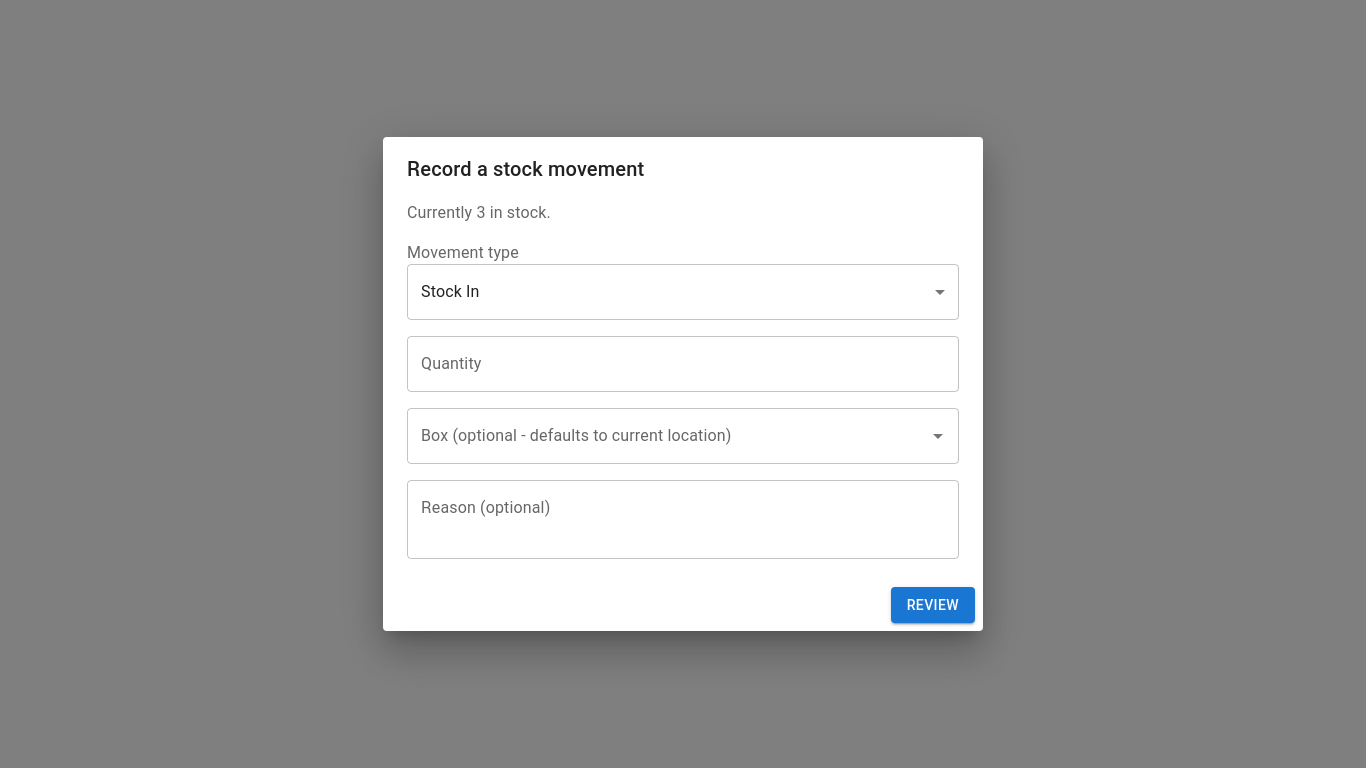
it: StockMovementDialog › Stock Out: rejects a quantity greater than what's in stock
Click the dropdown labelled "Stock In" at {"x": 450, "y": 292}, box [421, 282, 480, 301]
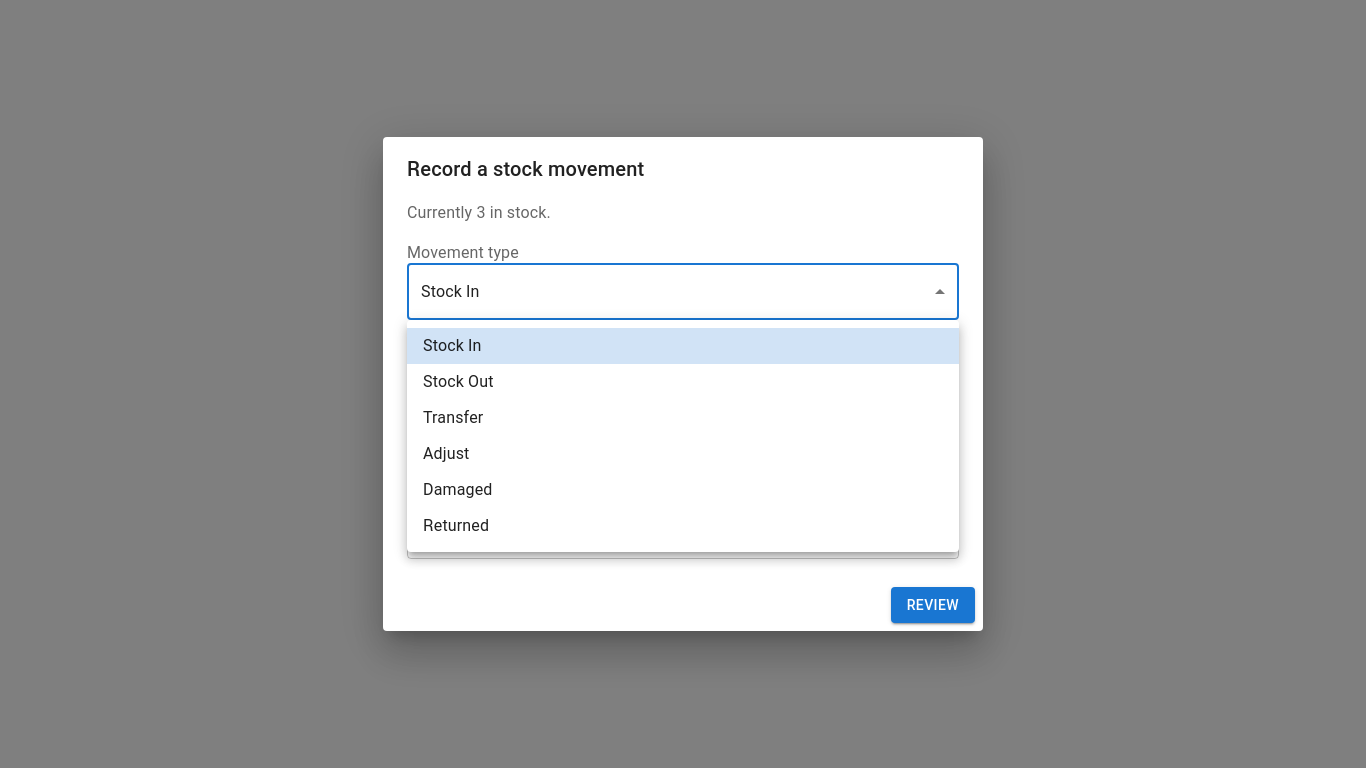
Click the option "Stock Out" at {"x": 458, "y": 382}, box [423, 372, 494, 391]
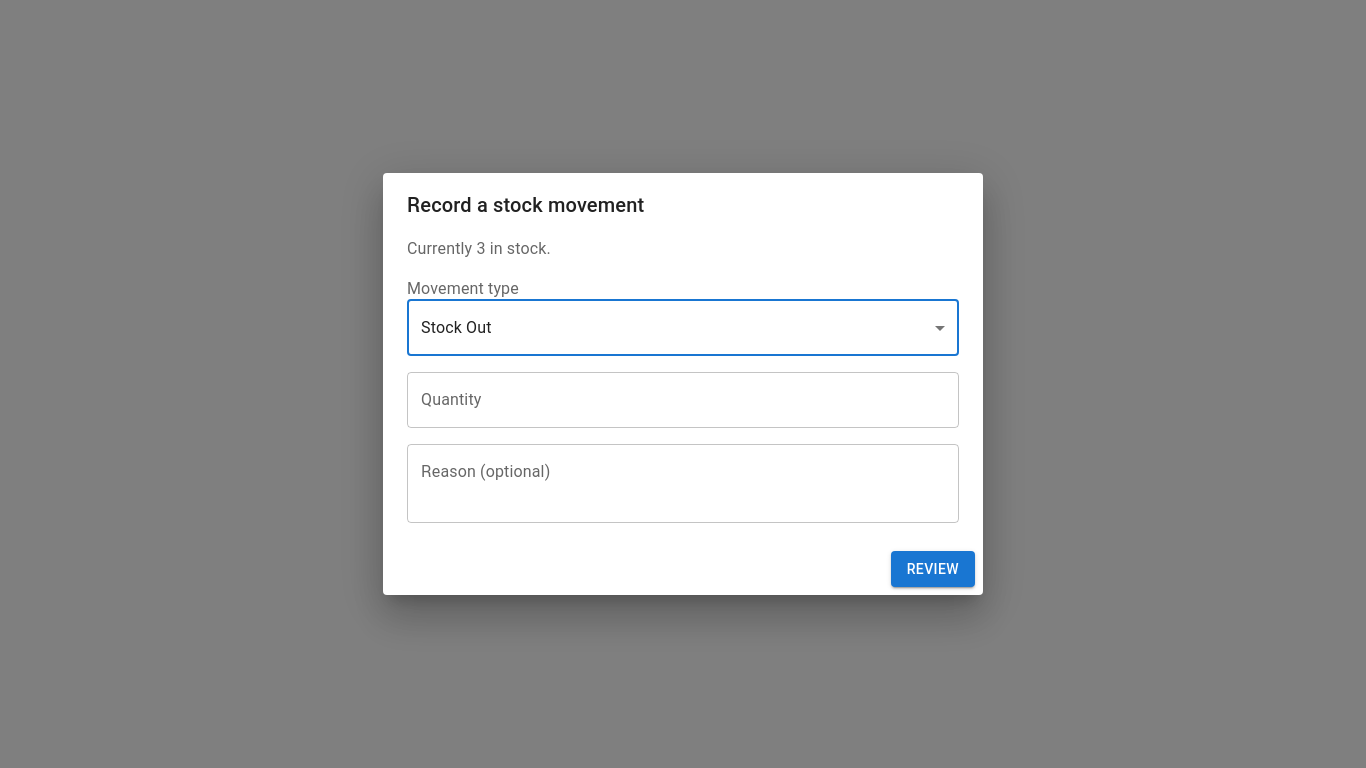
Type "9" into the number field at {"x": 683, "y": 400}, box [407, 372, 959, 428]
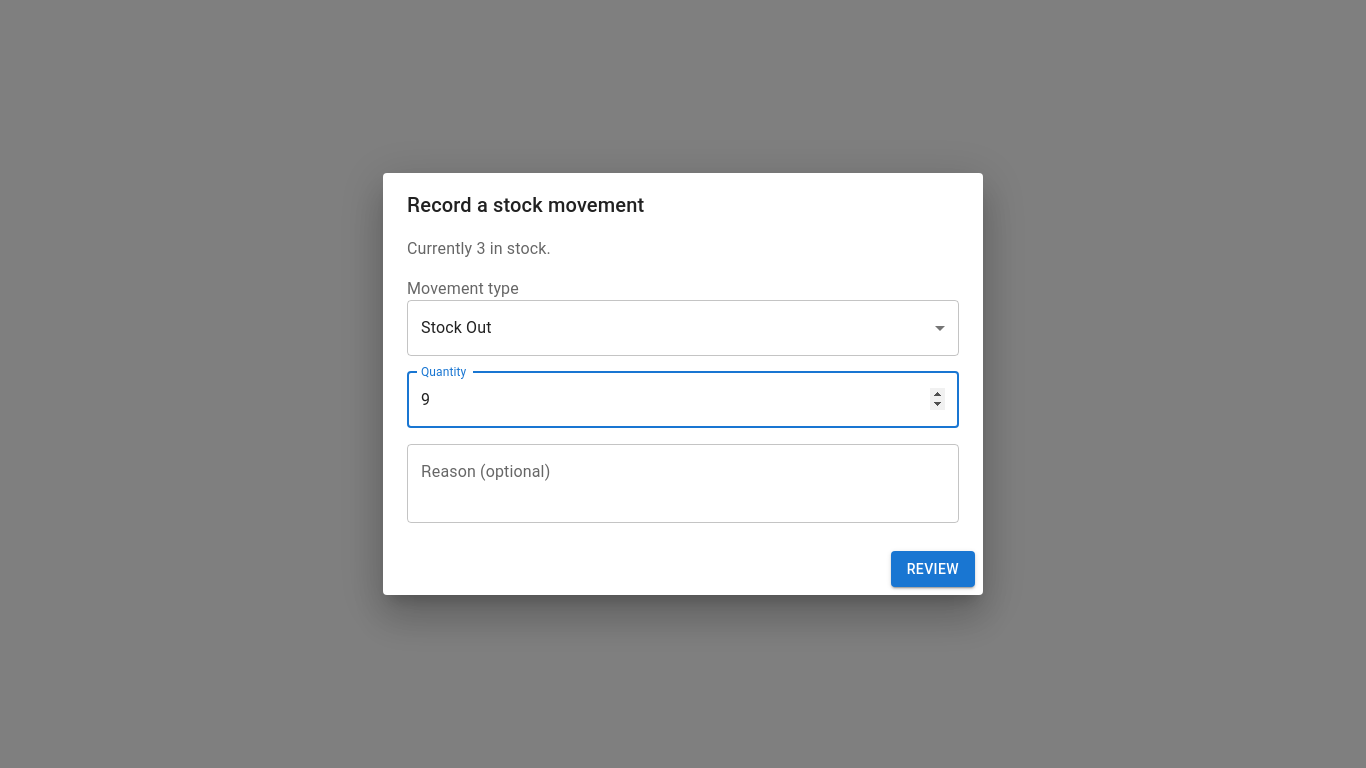
Click the button "Review" at {"x": 933, "y": 569}, box [891, 551, 975, 587]
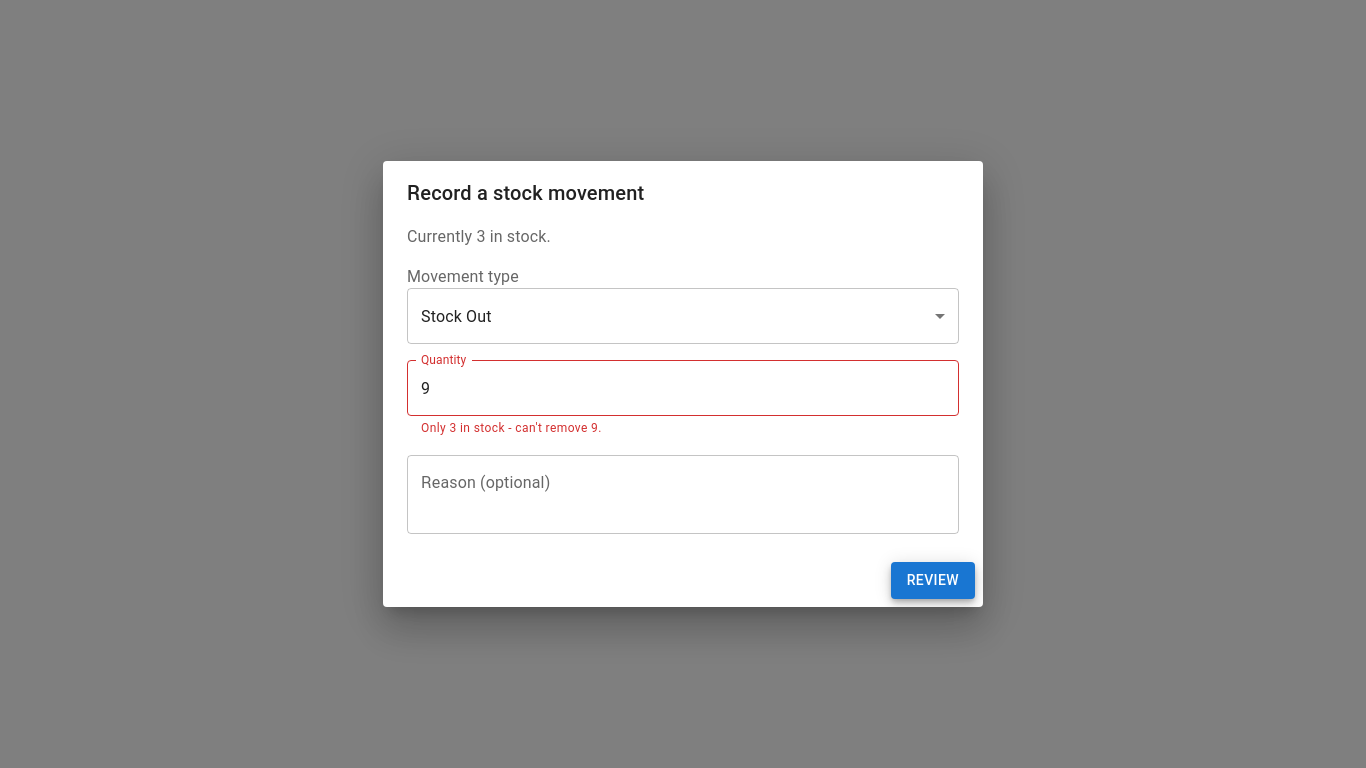
Expected: the text "Only 3 in stock - can't remove 9." is shown, [421, 421, 602, 435]
